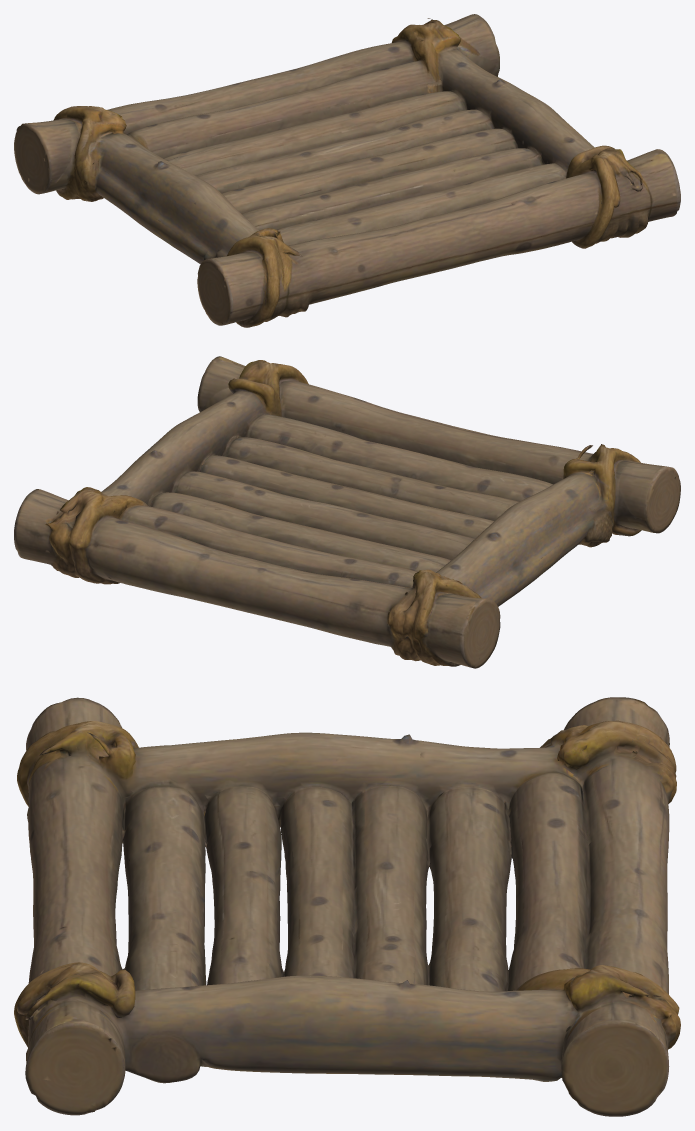
The model's file is floss_baumstamm_original.glb.
The picture shows the model from 3 angles, top to bottom: view 1: azimuth 30°, elevation 25°; view 2: azimuth 150°, elevation 25°; view 3: azimuth 270°, elevation 25°; orthographic projection. The views are drawn at different scales.
Bounding box in the file's own units: 2 × 0.364 × 1.73.
1 material, 1 textured.
